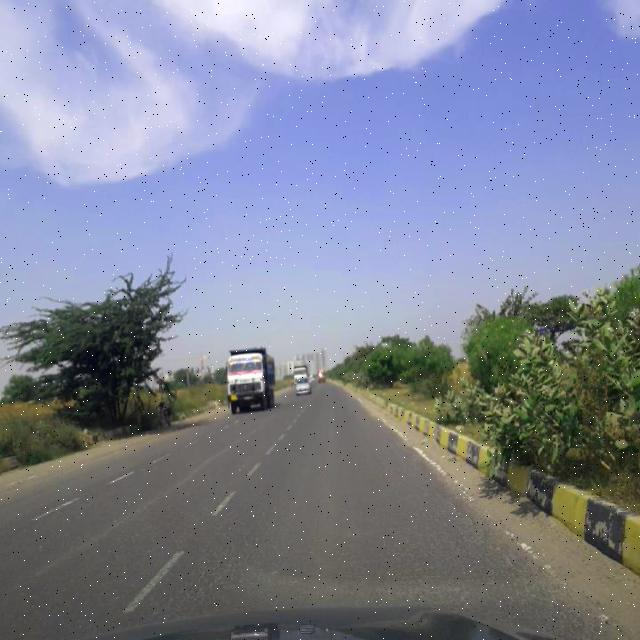D44: (376, 500, 572, 598), (66, 511, 261, 608)
